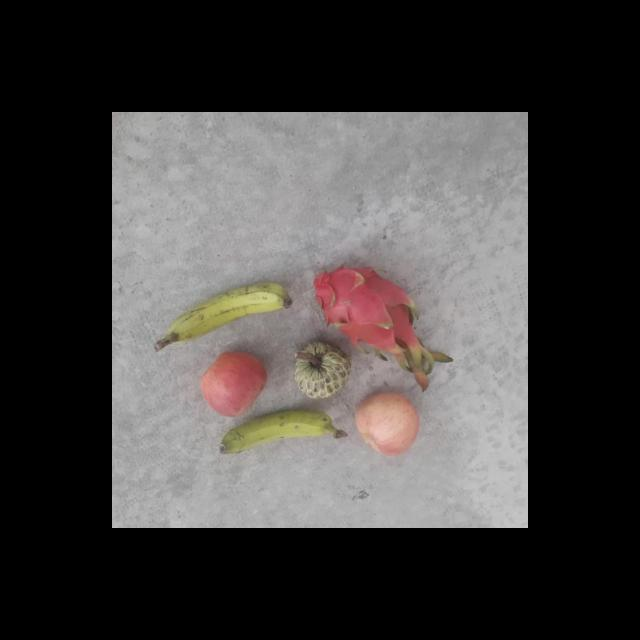Sakya fruit: (290, 344, 350, 402)
apple: (200, 350, 268, 418), (352, 393, 417, 458)
banana: (166, 279, 296, 347), (221, 407, 337, 462)
pitaya: (308, 260, 414, 346)
